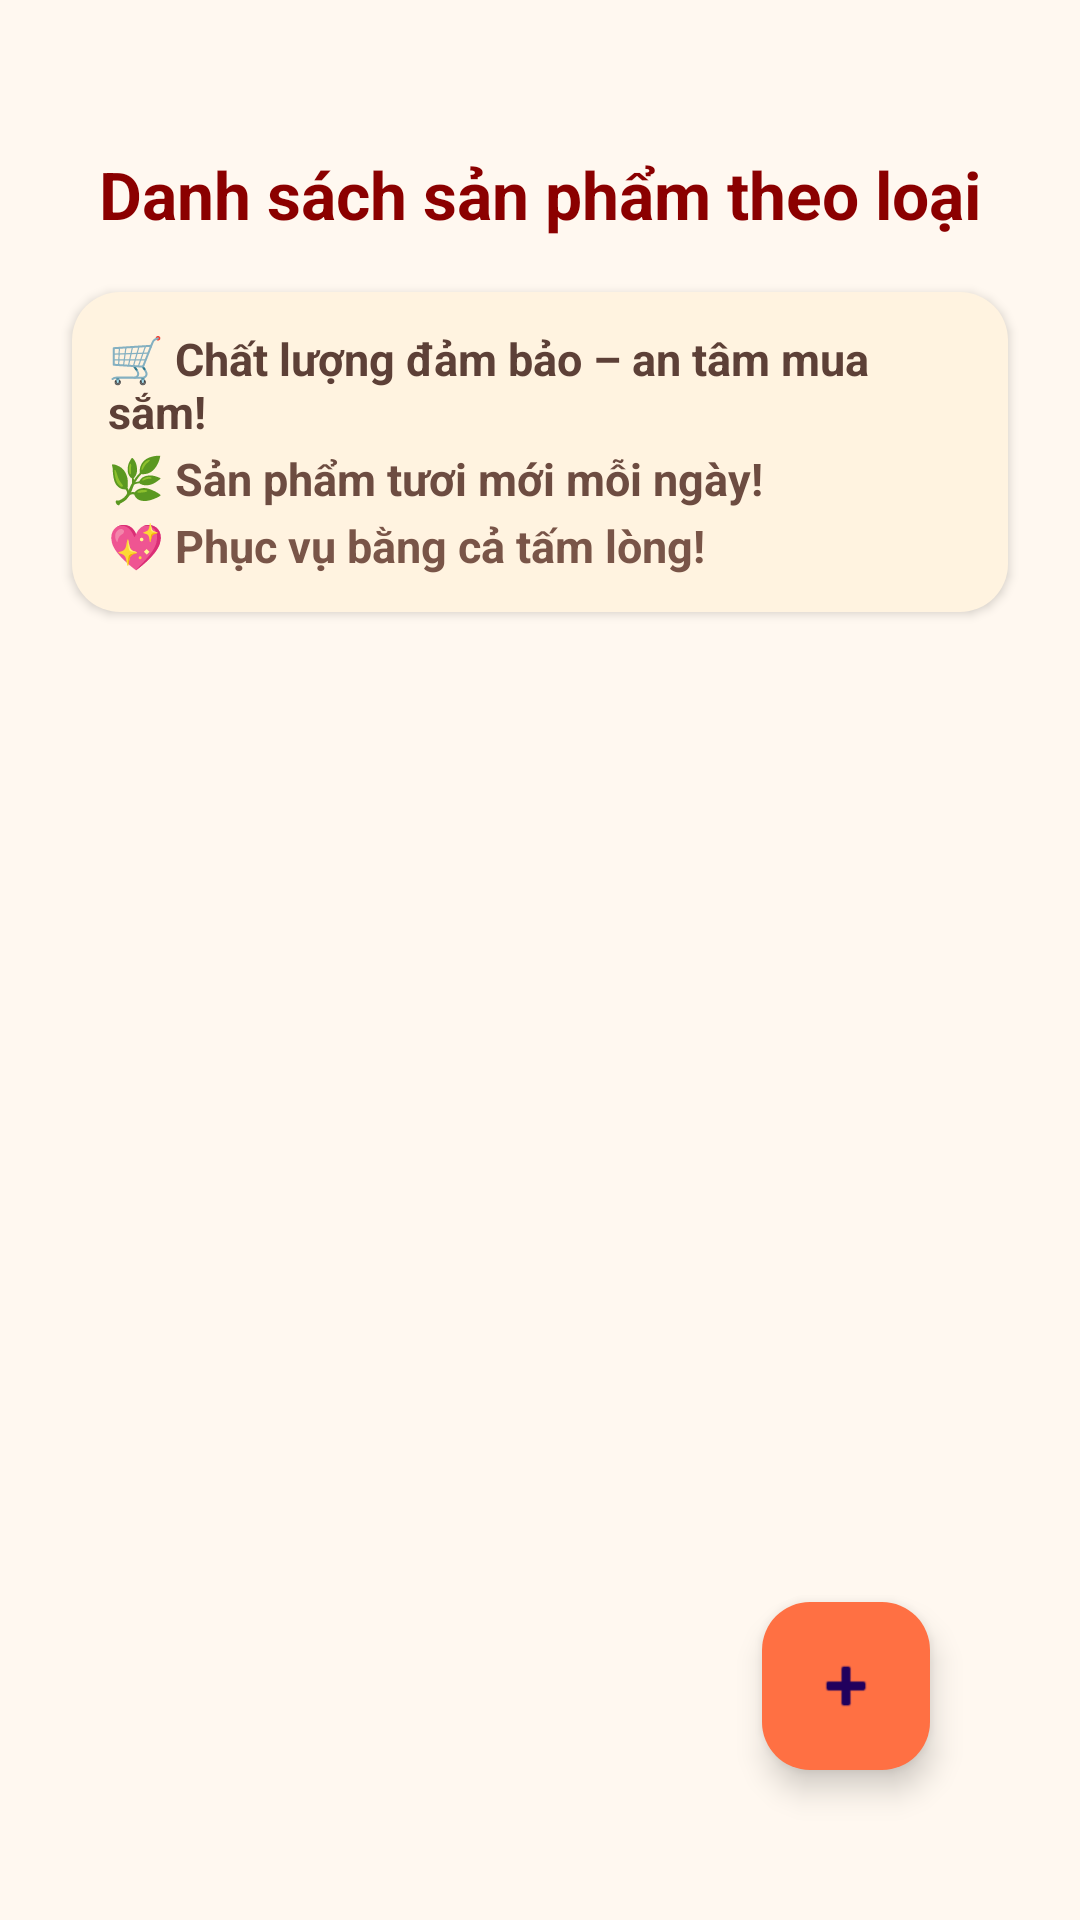

Locate icon controls on the screen. Image size 1080px×1920px, boxes as (x1, y1, x2, y2).
Thêm sản phẩm: (762, 1602, 930, 1770)
